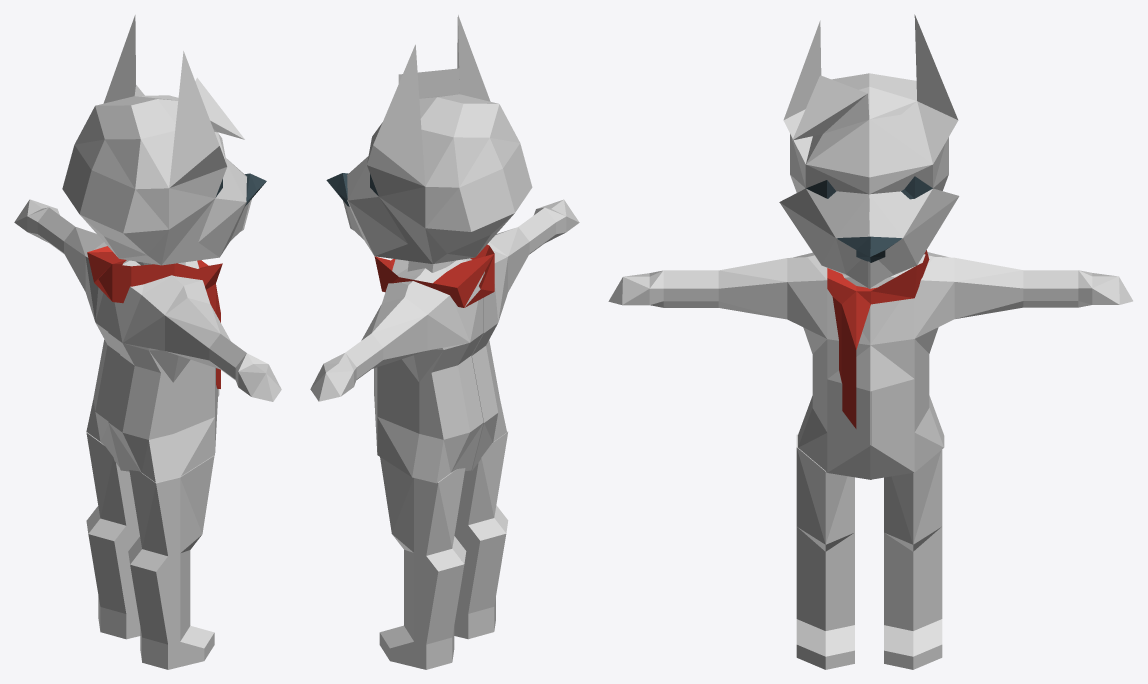
3 views of the same model, side by side, from view 1: azimuth 30°, elevation 25°; view 2: azimuth 150°, elevation 25°; view 3: azimuth 270°, elevation 25° (orthographic). The views are drawn at different scales.
Visible parts, largest first — view 1: node_MeshObject-1054849024-PolyPaper21; view 2: node_MeshObject-1054849024-PolyPaper21; view 3: node_MeshObject-1054849024-PolyPaper21.
Boxes of the visible parts, <box> form: node_MeshObject-1054849024-PolyPaper21: <box>14,15,281,669</box>; node_MeshObject-1054849024-PolyPaper21: <box>310,15,579,669</box>; node_MeshObject-1054849024-PolyPaper21: <box>608,14,1132,669</box>.
Size of the model in its own units: 0.1557 by 0.4821 by 0.3601.
